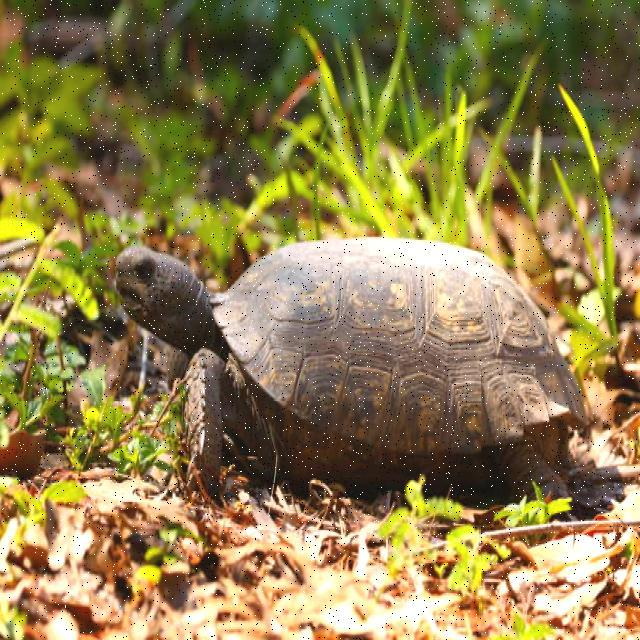tortoise: (101, 226, 621, 532)
